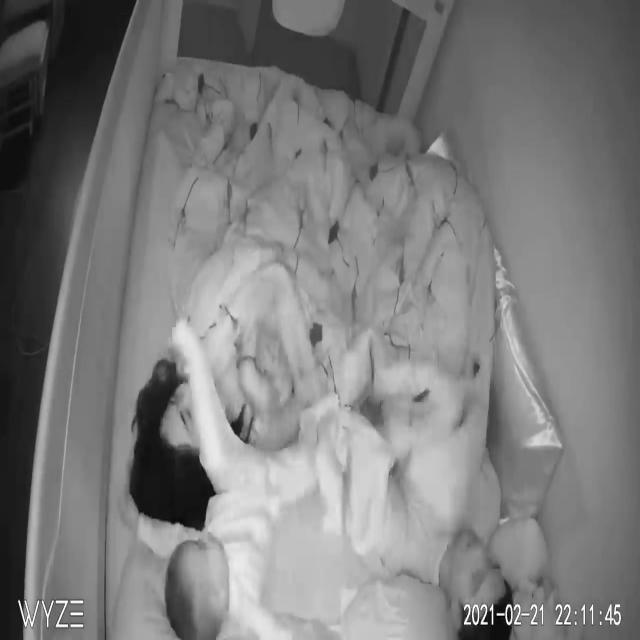baby: (160, 322, 319, 638)
